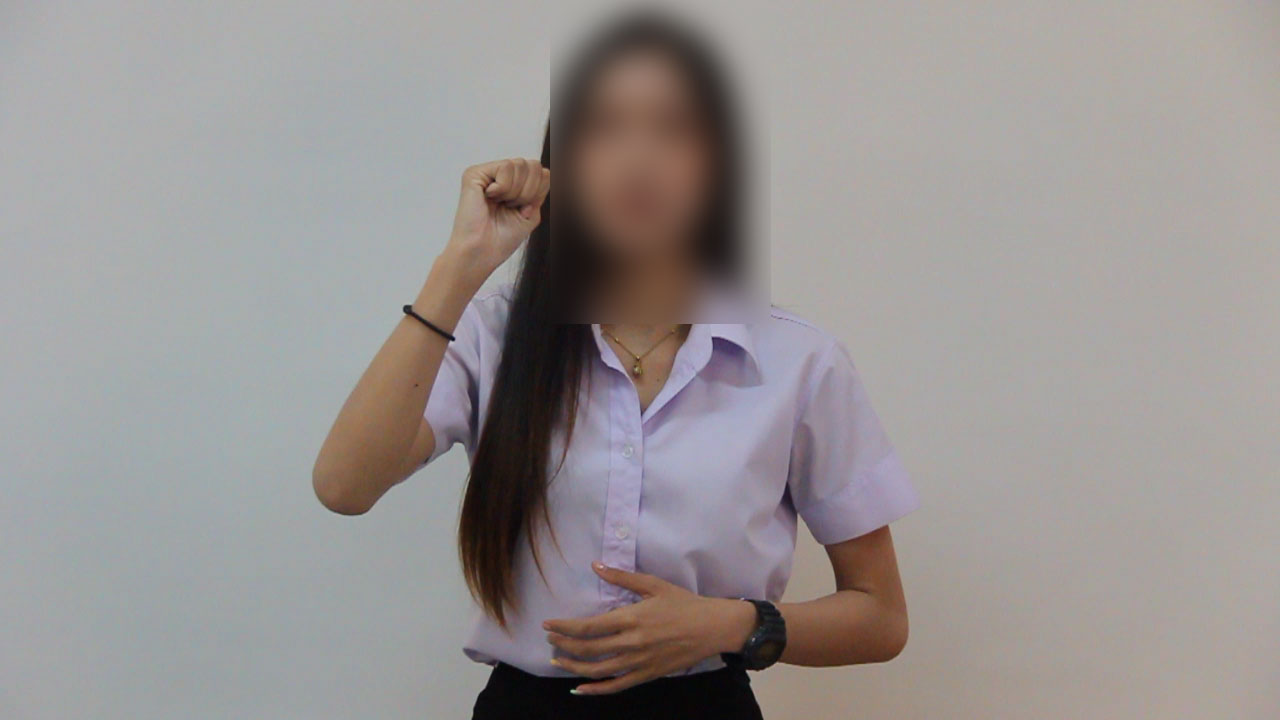sor: (434, 135, 565, 278)
